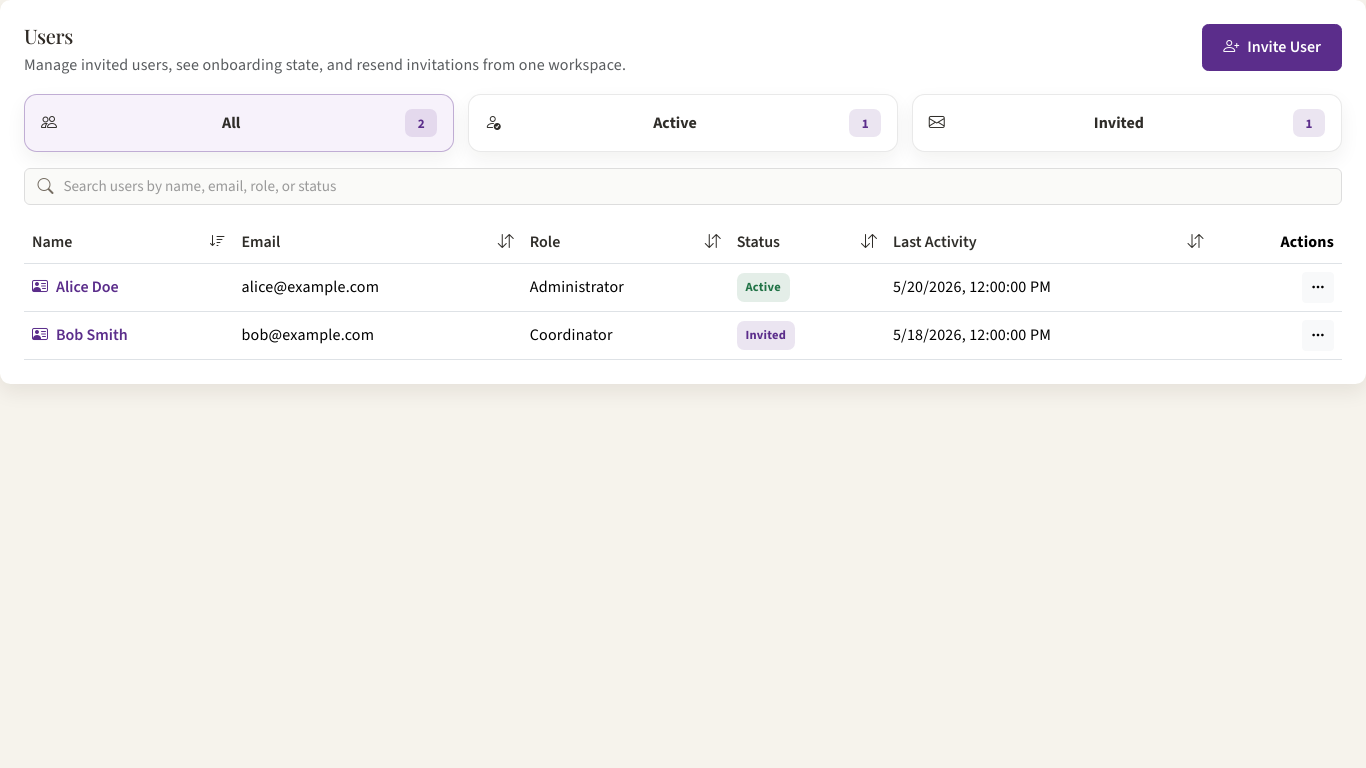
Test: AdminUsersWorkspace › filters, sorts, and opens the detail drawer
Expected: the button "Alice Doe" is shown, [32,274,119,300]
Expected: the button "Bob Smith" is shown, [32,322,128,348]
Click the button "Invited 1": (1127, 123) [912,94,1342,152]
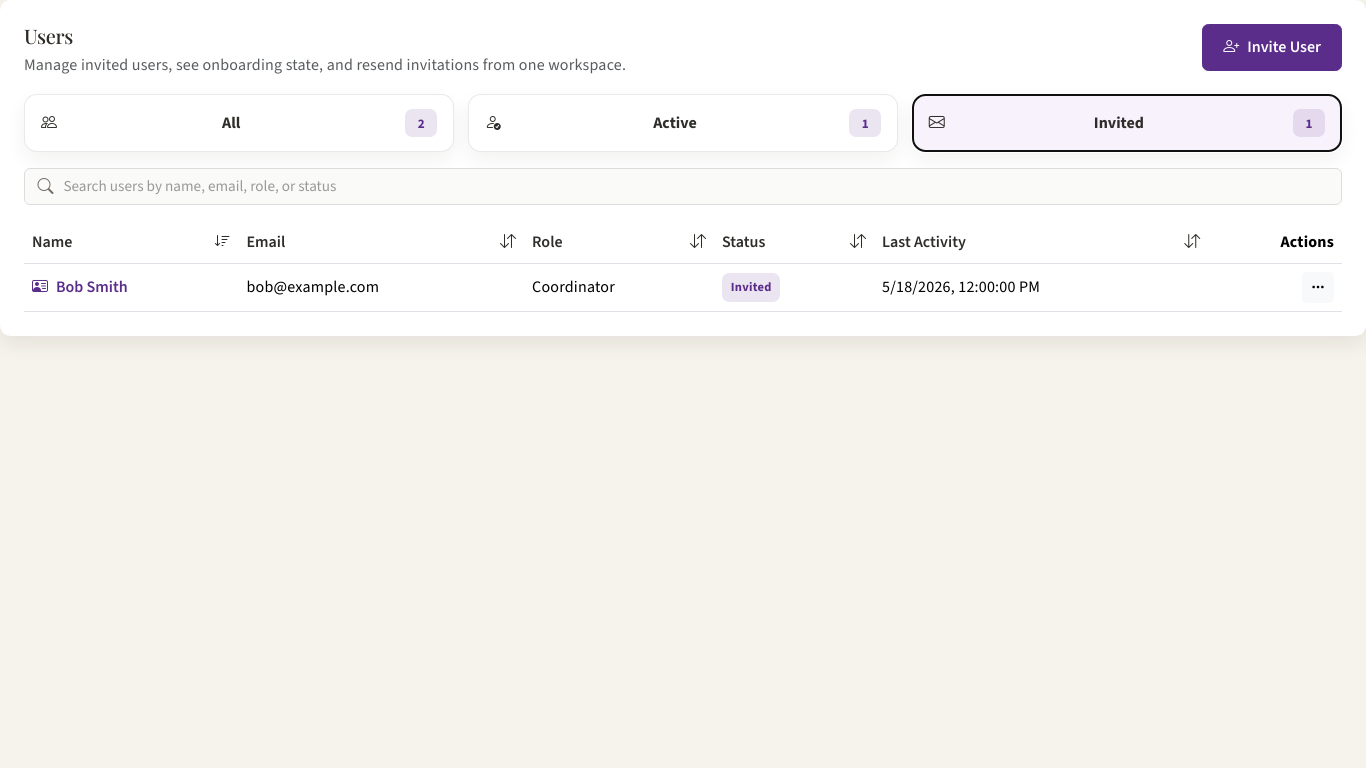
Expected: the button "Bob Smith" is shown, [32,274,128,300]
Now the button "Alice Doe" is gone
Click the button "All 2": (239, 123) [24,94,454,152]
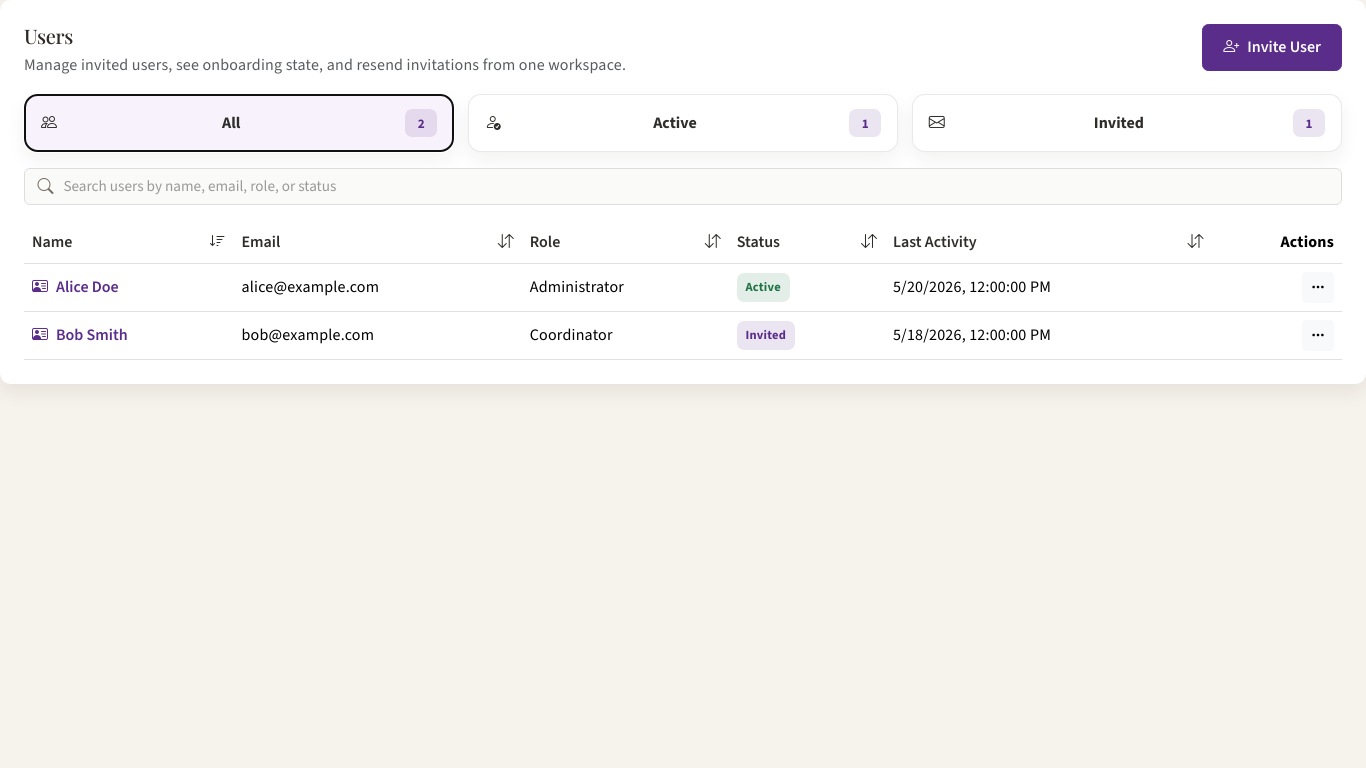
Click the button "Name": (129, 242) [32,229,226,255]
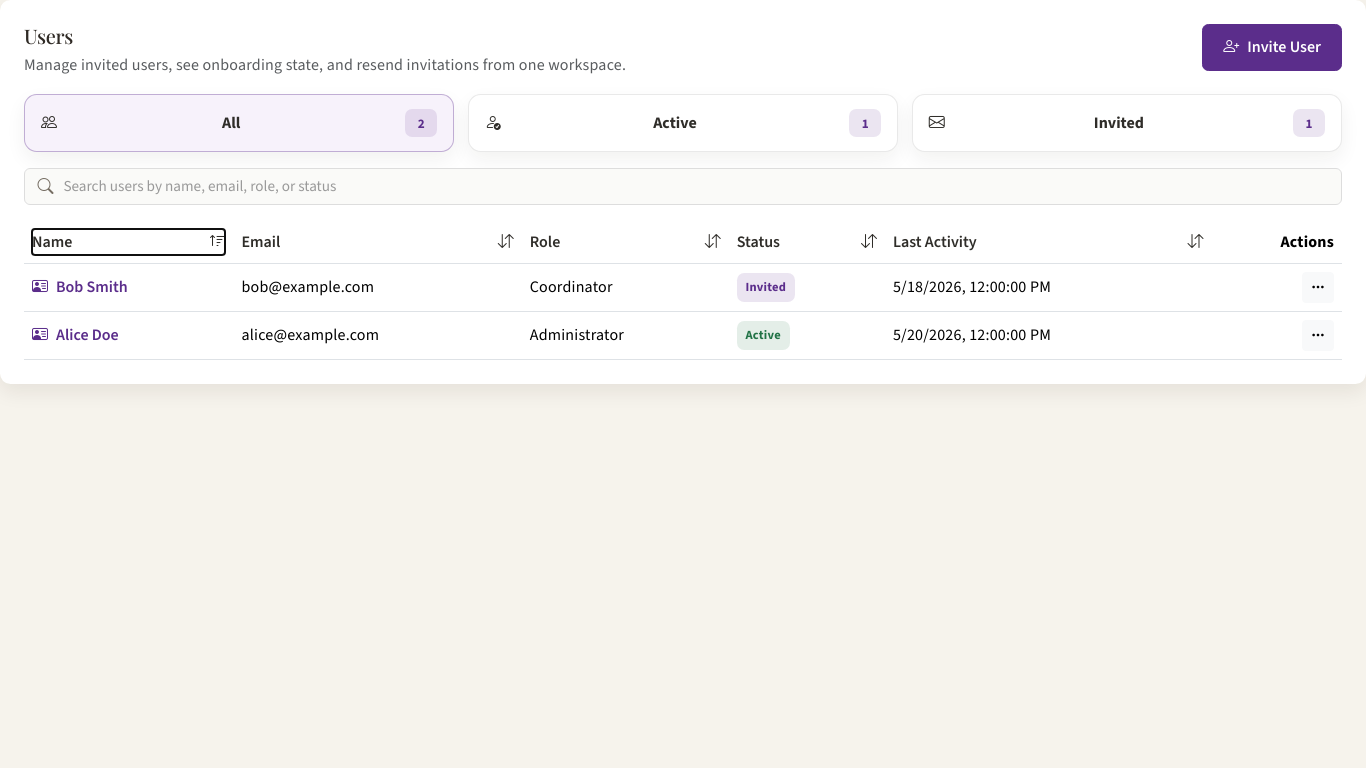
Expected: the button "Bob Smith" is shown, [32,274,128,300]
In the field with placeholder "Search users by name, email, role, or status": (683, 187) [24,168,1342,205], type "bob"
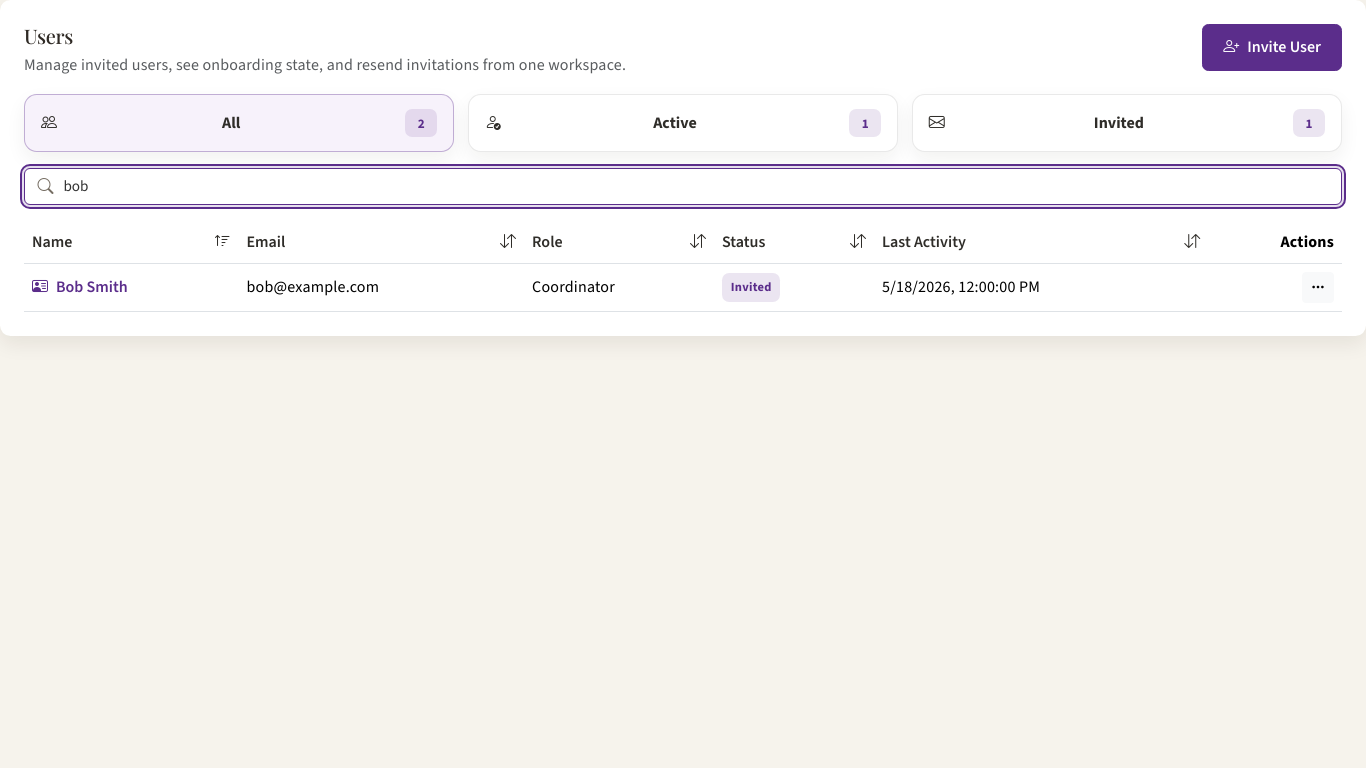
Expected: the button "Bob Smith" is shown, [32,274,128,300]
Now the button "Alice Doe" is gone
Click the text "bob@example.com": (381, 287) [238,263,524,311]
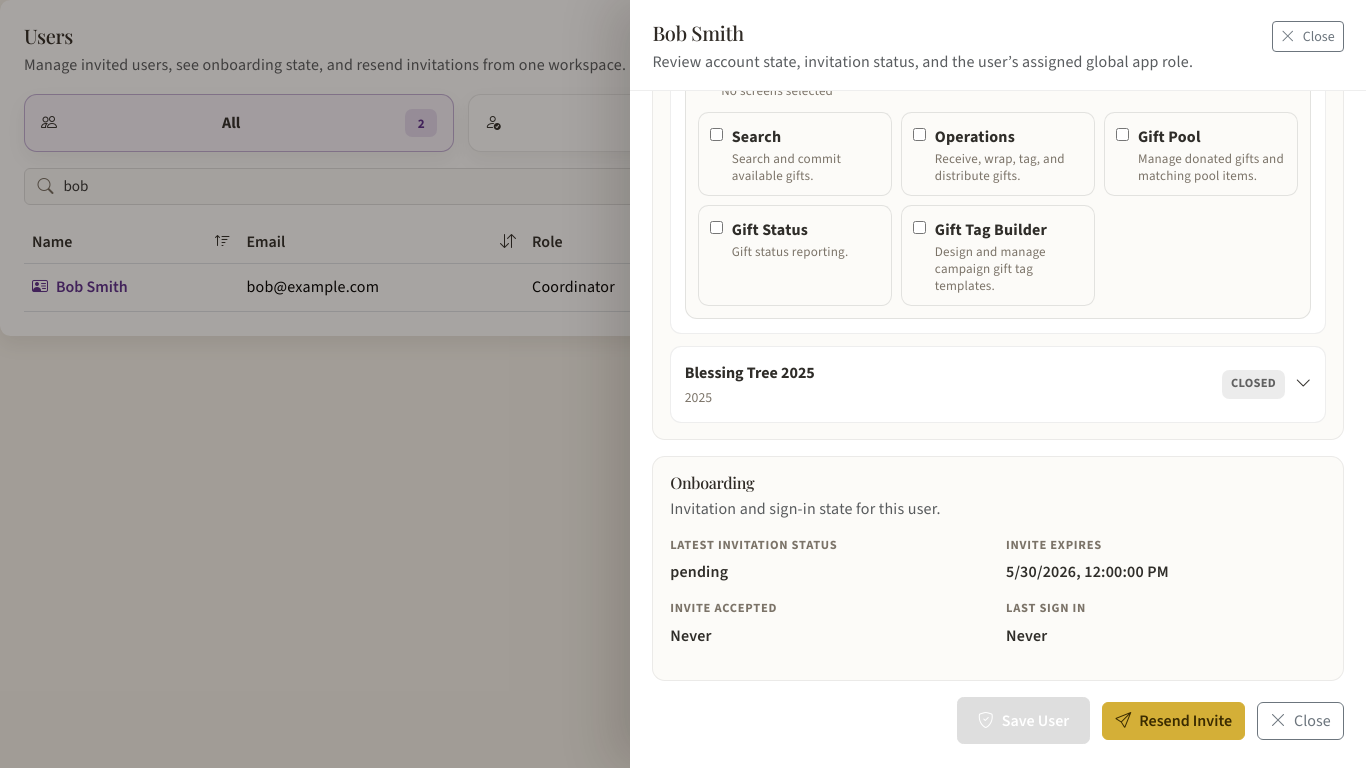
Now the button "Blessing Tree 2025 2025 CLOSED" is shown, box [685,360,1311,408]
Now the text "Latest Invitation Status" is shown, box [670,537,838,553]
Now the button "Resend Invite" is shown, box [1102,702,1245,740]
